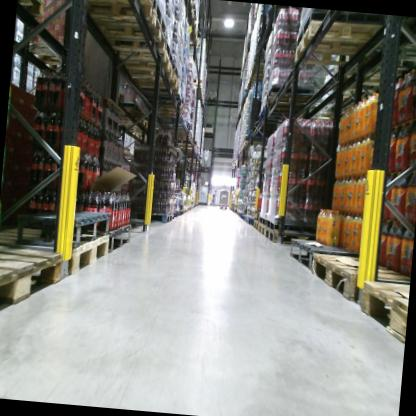pallet: (0, 200, 115, 263), (307, 247, 406, 319), (0, 222, 112, 280), (291, 20, 392, 84), (0, 247, 73, 320), (357, 277, 409, 343), (95, 10, 170, 55), (116, 43, 177, 81), (285, 232, 340, 273), (75, 0, 156, 27), (23, 36, 79, 75), (265, 81, 317, 112), (261, 224, 314, 252), (130, 66, 183, 93), (109, 220, 135, 259), (137, 84, 183, 106), (115, 110, 152, 134), (266, 5, 300, 26), (126, 209, 173, 224), (163, 116, 192, 135), (18, 0, 48, 18), (153, 100, 186, 116), (182, 10, 202, 30), (185, 26, 199, 46), (174, 142, 199, 152), (179, 0, 197, 13), (259, 223, 268, 240), (193, 78, 205, 90), (248, 216, 257, 229), (253, 219, 260, 235), (178, 202, 185, 212), (179, 208, 184, 216)
pallet_truck: (217, 181, 232, 212)
